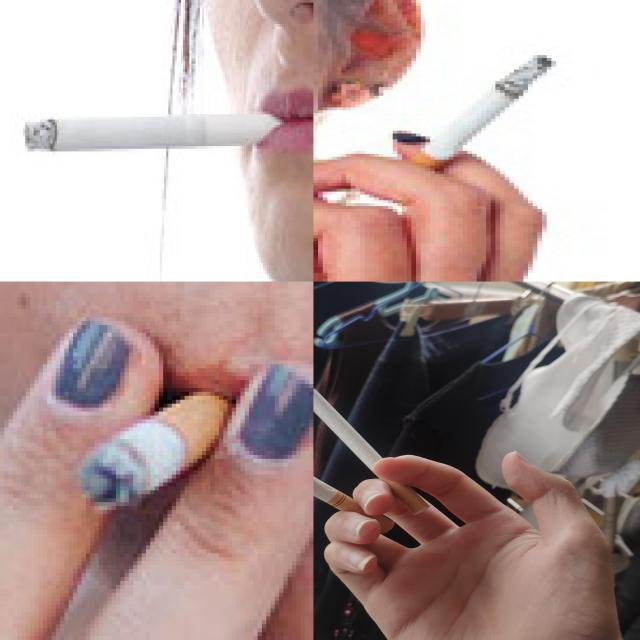smoke: (386, 53, 559, 192), (80, 390, 234, 508), (314, 388, 432, 518), (24, 112, 285, 151), (314, 425, 396, 537)
